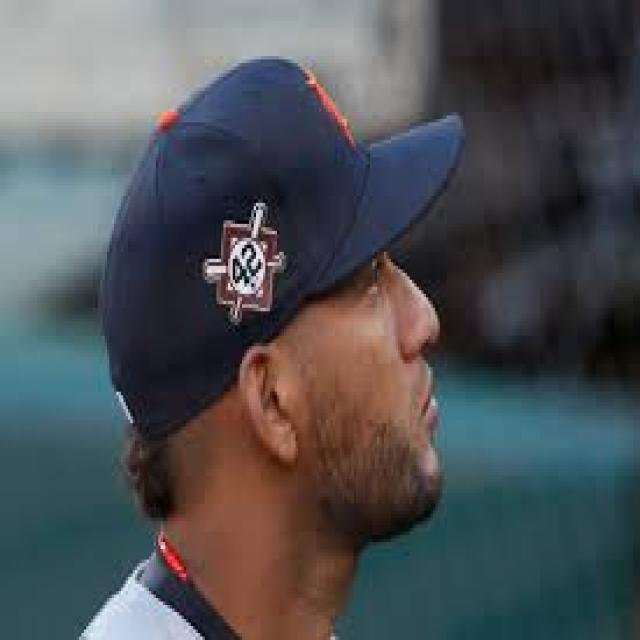3_gorra: (102, 52, 465, 440)
